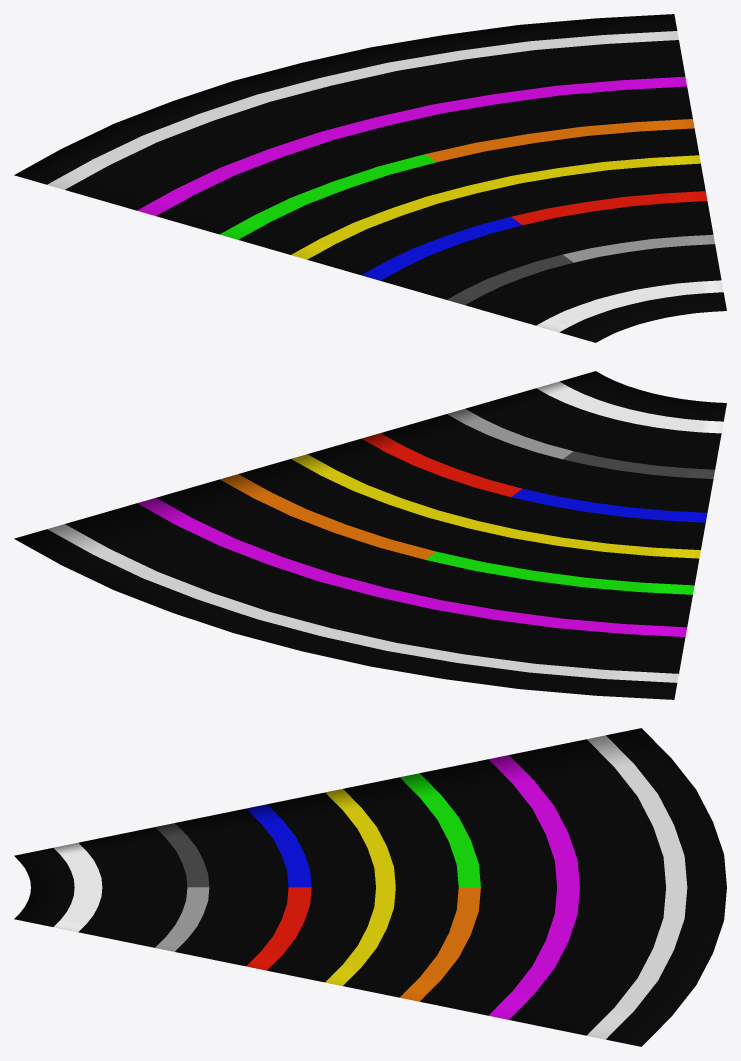
File: LightMapHelperWedge.fbx
The picture shows the model from 3 angles, top to bottom: view 1: azimuth 30°, elevation 25°; view 2: azimuth 150°, elevation 25°; view 3: azimuth 270°, elevation 25°; orthographic projection.
Visible parts, largest first — view 1: LightMapHelper.001; view 2: LightMapHelper.001; view 3: LightMapHelper.001.
Part boxes in pixels (box(x1,y1,x2,y2)): LightMapHelper.001: box(14, 14, 726, 342); LightMapHelper.001: box(14, 371, 726, 699); LightMapHelper.001: box(14, 728, 726, 1046).
Size of the model in its own units: 4513 by 1.53 by 4266.
